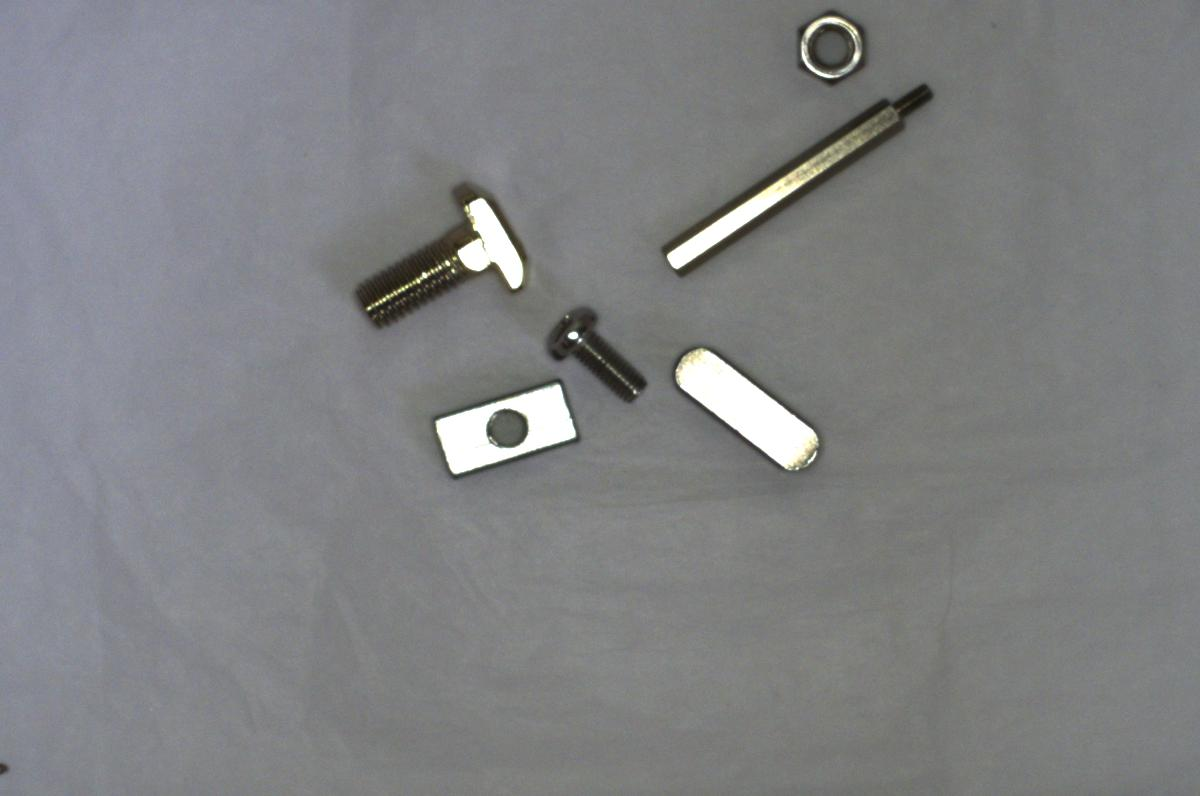Hexagon nut: (780, 7, 878, 93)
Hexagonal steel column: (666, 80, 942, 274)
Keybar: (651, 328, 830, 481)
Rectangular nut: (419, 375, 591, 485)
Round head screw: (541, 306, 647, 403)
T-shaped screw: (346, 175, 527, 329)
